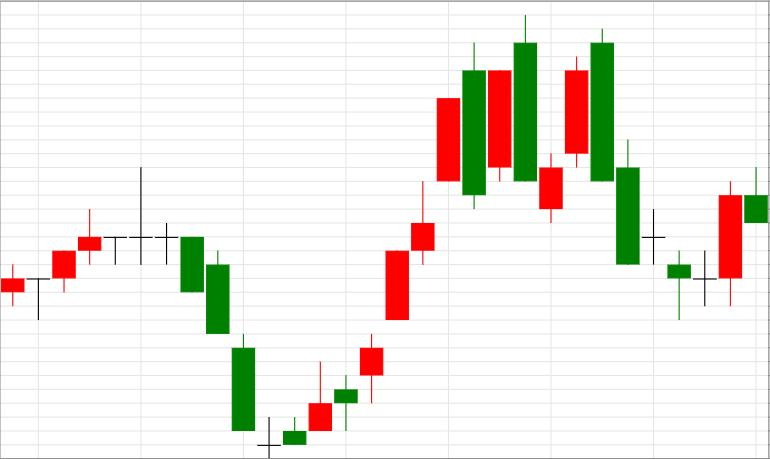bearish_engulfing_fall: (310, 14, 613, 433), (309, 16, 536, 432), (309, 44, 485, 431)
